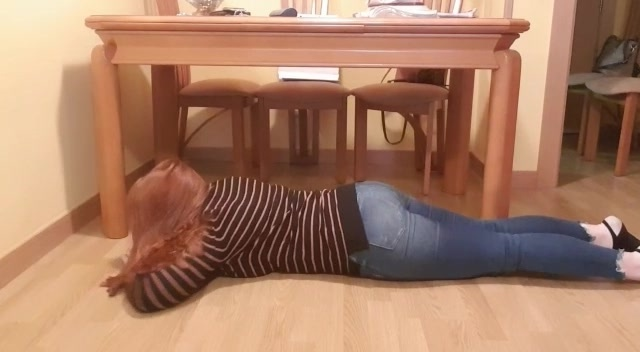fall: (104, 146, 638, 325)
